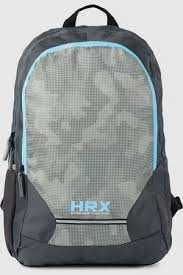backpack: (0, 4, 182, 266)
